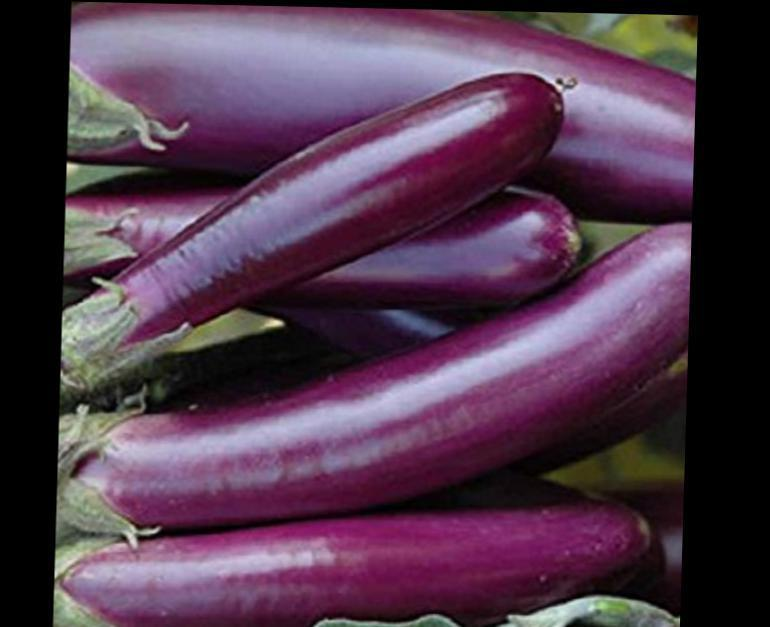eggplant: (72, 4, 694, 627)
